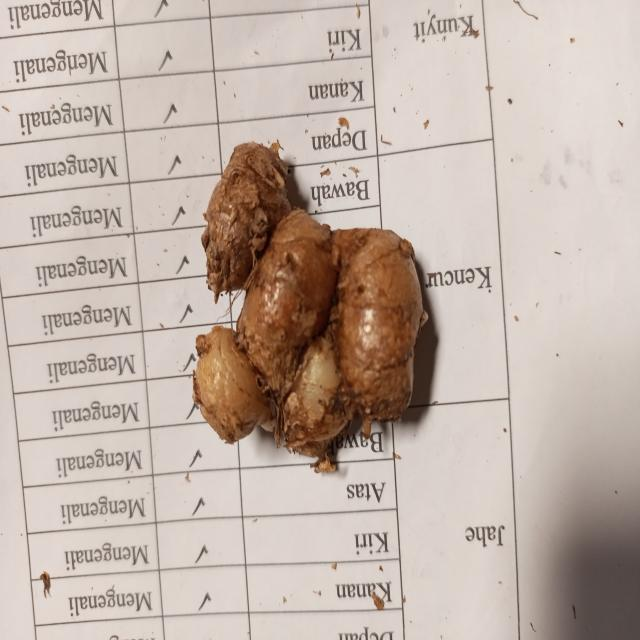ginger: (198, 148, 420, 446)
